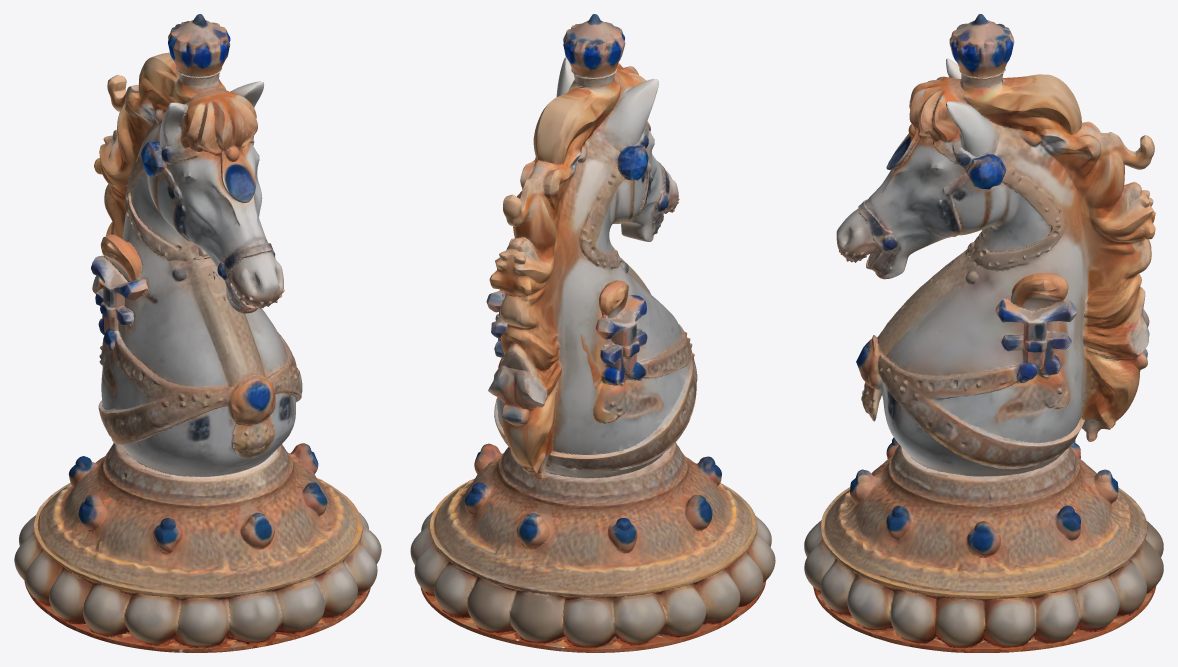
File: knight.glb
3 renders of one model, left to right at view 1: azimuth 30°, elevation 25°; view 2: azimuth 150°, elevation 25°; view 3: azimuth 270°, elevation 25°, orthographic.
Parts seen in each view (by area): view 1: model; view 2: model; view 3: model.
Boxes of the visible parts, <box> form: model: <box>14,14,381,652</box>; model: <box>410,14,775,652</box>; model: <box>804,14,1163,652</box>.
Bounding box in the file's own units: 1.09 × 1.9 × 1.08.
1 material, 1 textured.
